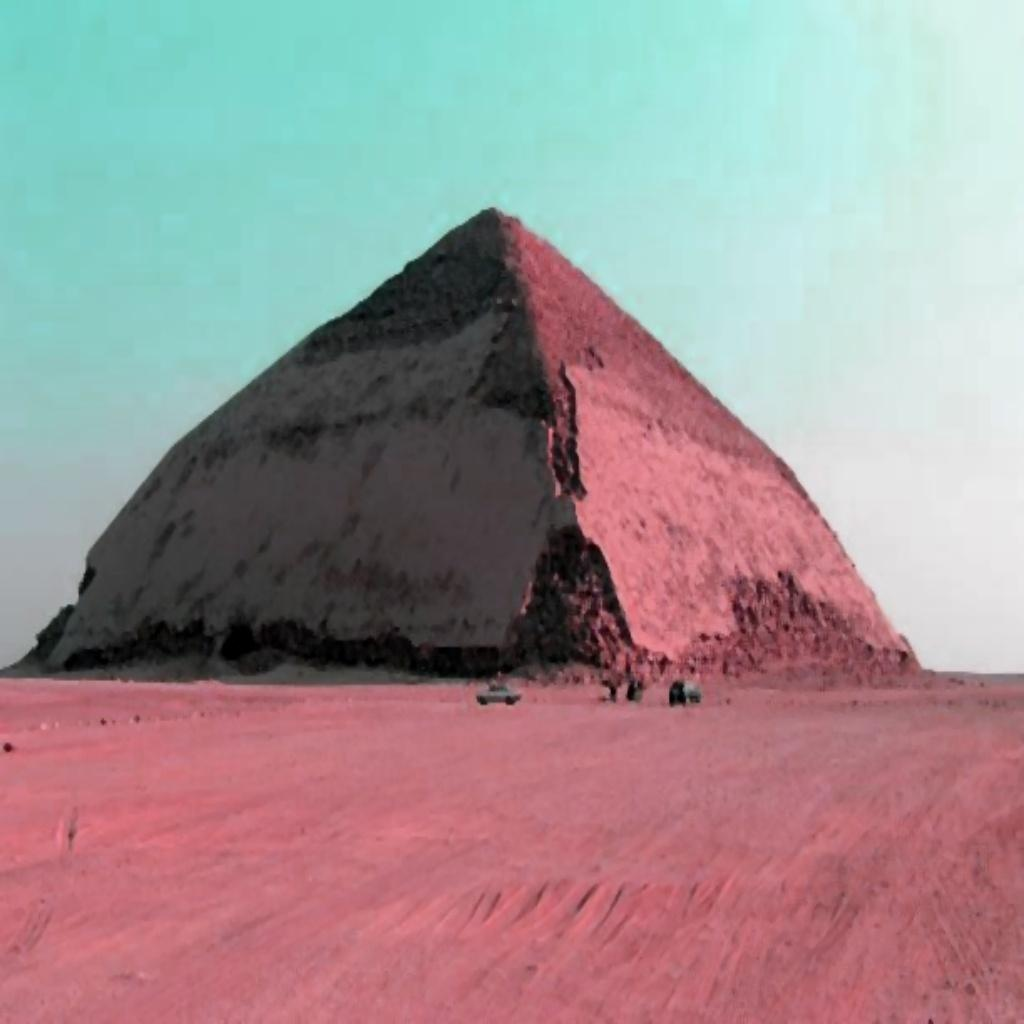Bent Pyramid of King Sneferu: (30, 201, 925, 687)
